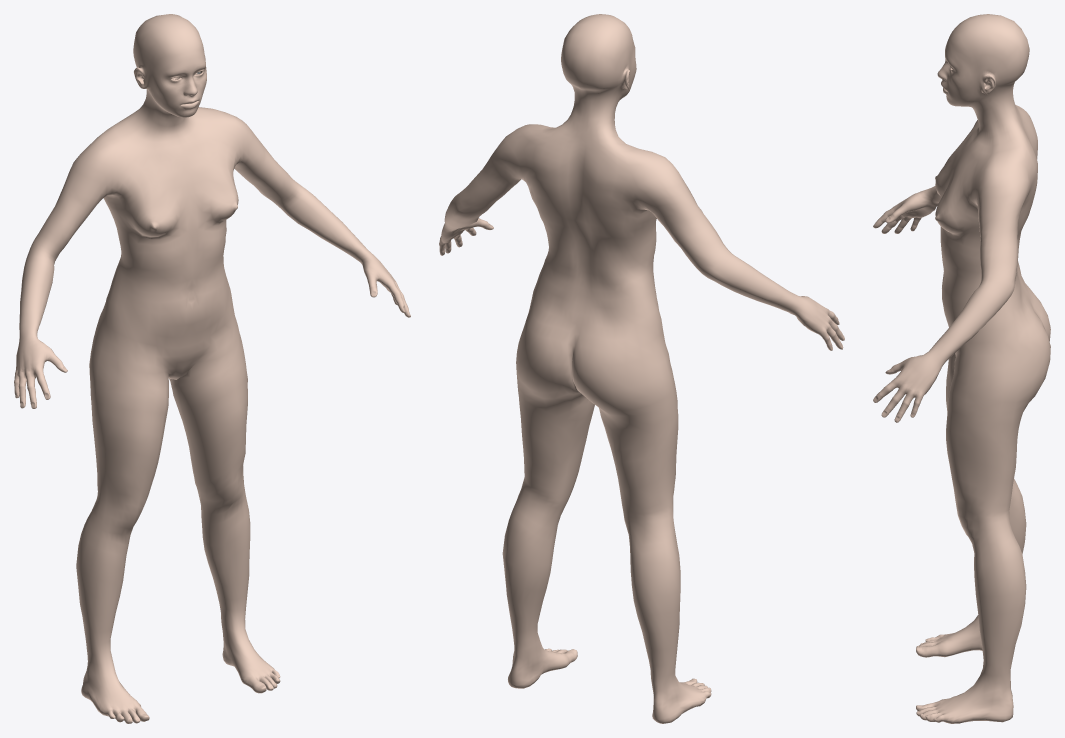
The model's file is patient-female-adult.glb.
3 views of the same model, side by side, from view 1: azimuth 30°, elevation 25°; view 2: azimuth 150°, elevation 25°; view 3: azimuth 270°, elevation 25° (orthographic). The views are drawn at different scales.
Parts seen in each view (by area): view 1: Human_patient-female-adult; view 2: Human_patient-female-adult; view 3: Human_patient-female-adult.
Boxes of the visible parts, bbox=[...] form: Human_patient-female-adult: bbox=[14, 14, 410, 723]; Human_patient-female-adult: bbox=[439, 14, 844, 723]; Human_patient-female-adult: bbox=[873, 14, 1050, 723].
Size of the model in its own units: 0.9733 by 1.59 by 0.3847.
